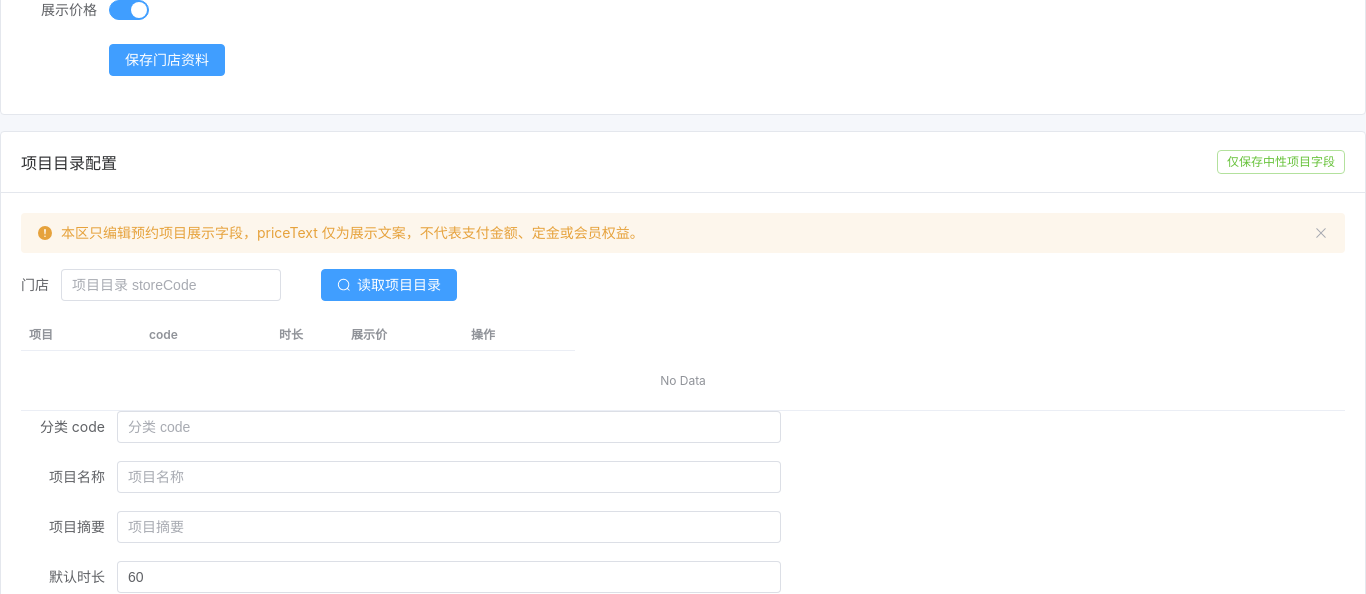
it: StoreAppointmentsPage › saves selected service project draft with request id and store scope
(page scrolled)
Type "store-config-001" into the field with placeholder "项目目录 storeCode". click: point(171, 285)
box: [72,270,270,300]
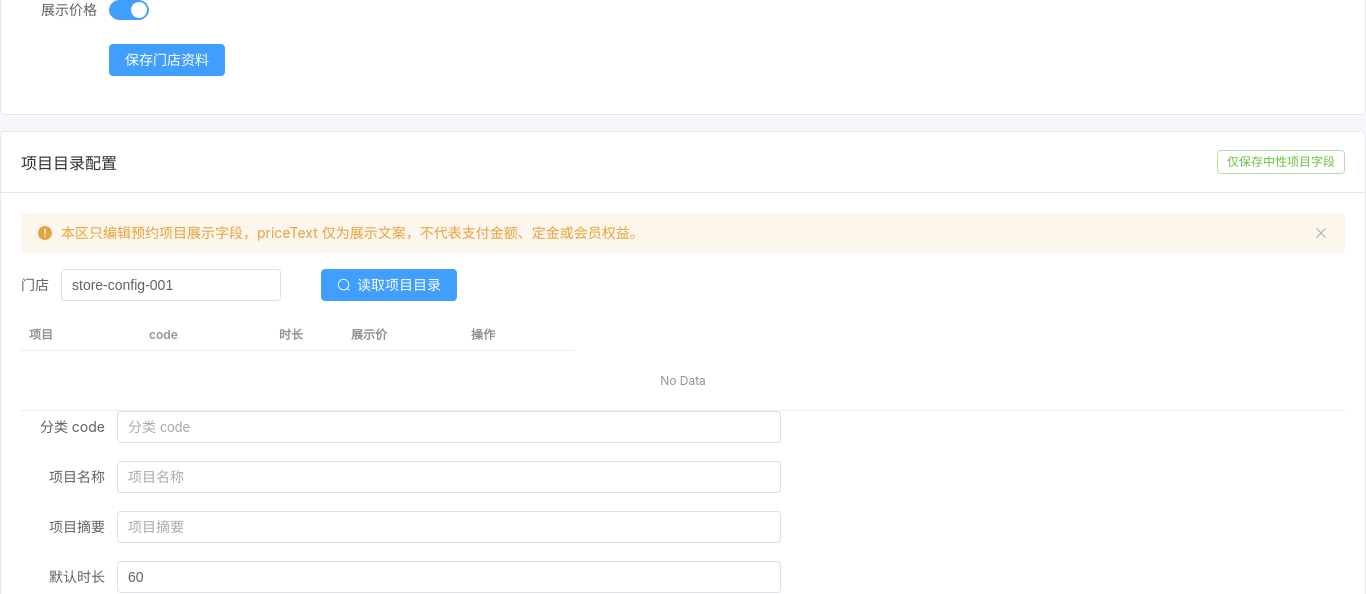
Click the button "读取项目目录". click: point(389, 285)
box: [321,269,457,301]
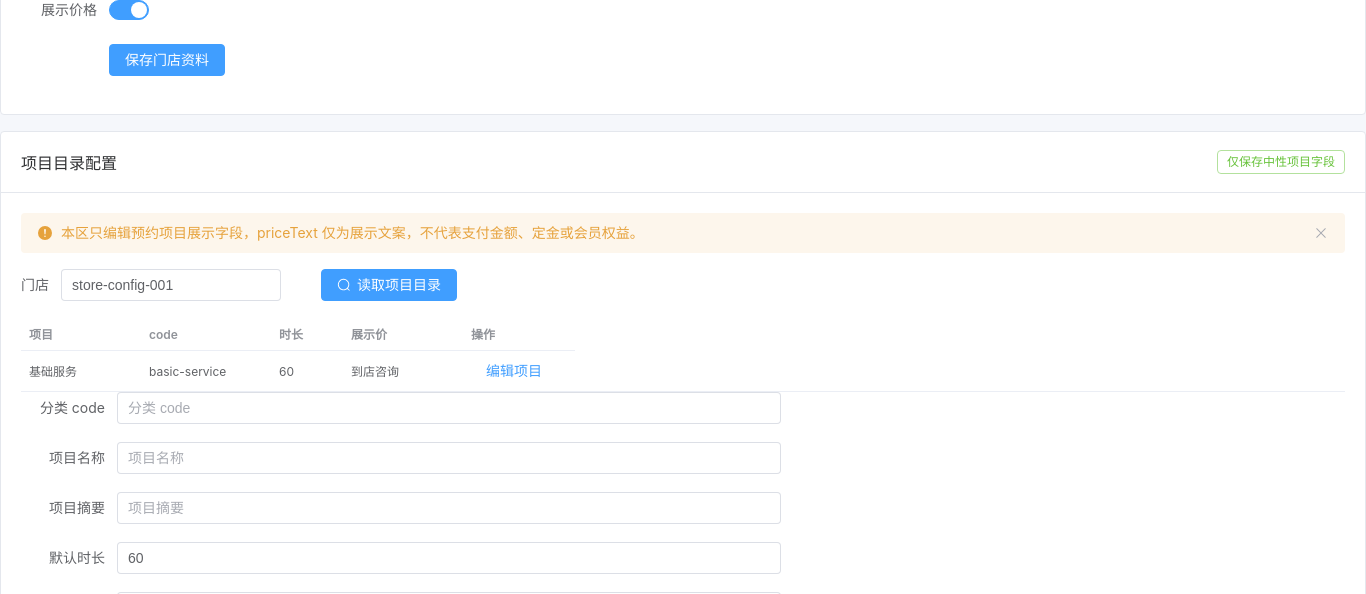
Click the button "编辑项目". click: point(514, 371)
box: [471,355,557,387]
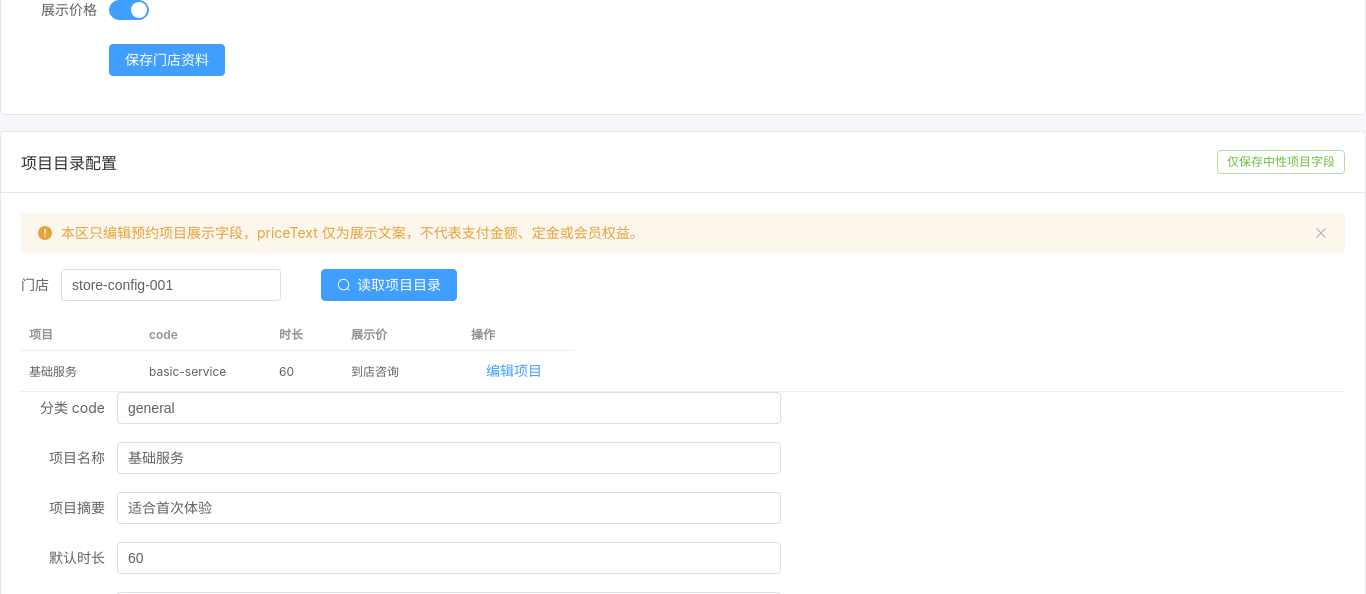
Replace the text in the field with placeholder "项目名称" with "基础护理". click: point(449, 458)
box: [128,443,770,473]
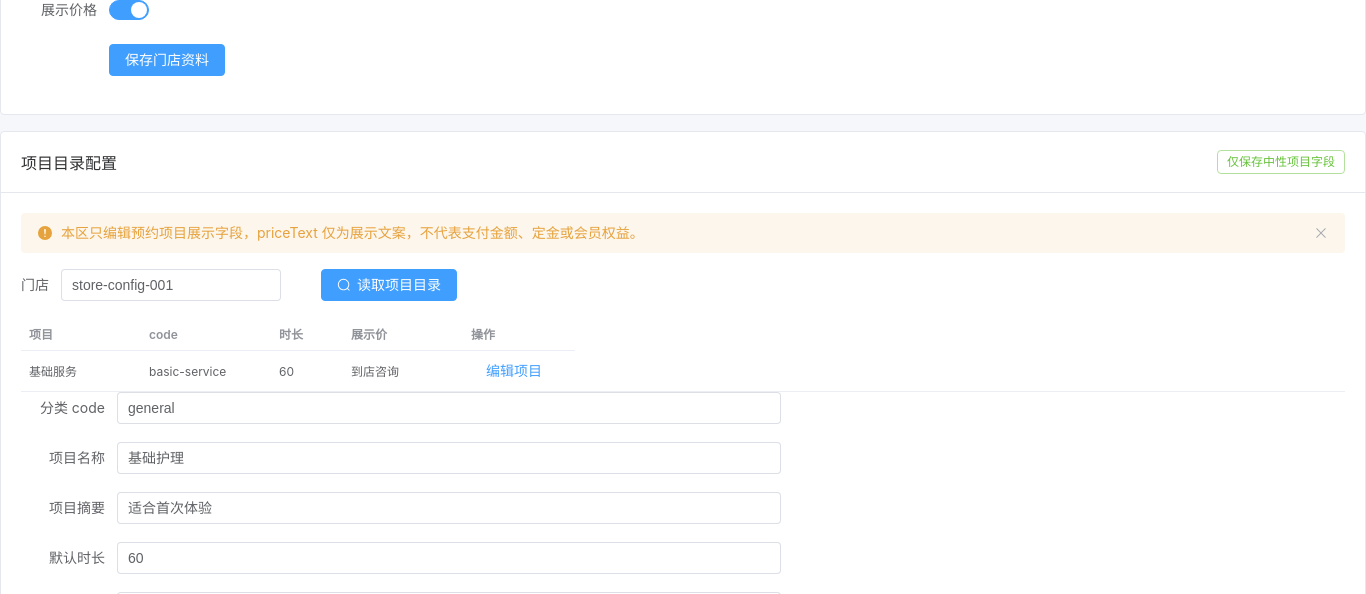
Replace the text in the field with placeholder "默认时长" with "75". click: point(449, 558)
box: [128,543,770,573]
(page scrolled)
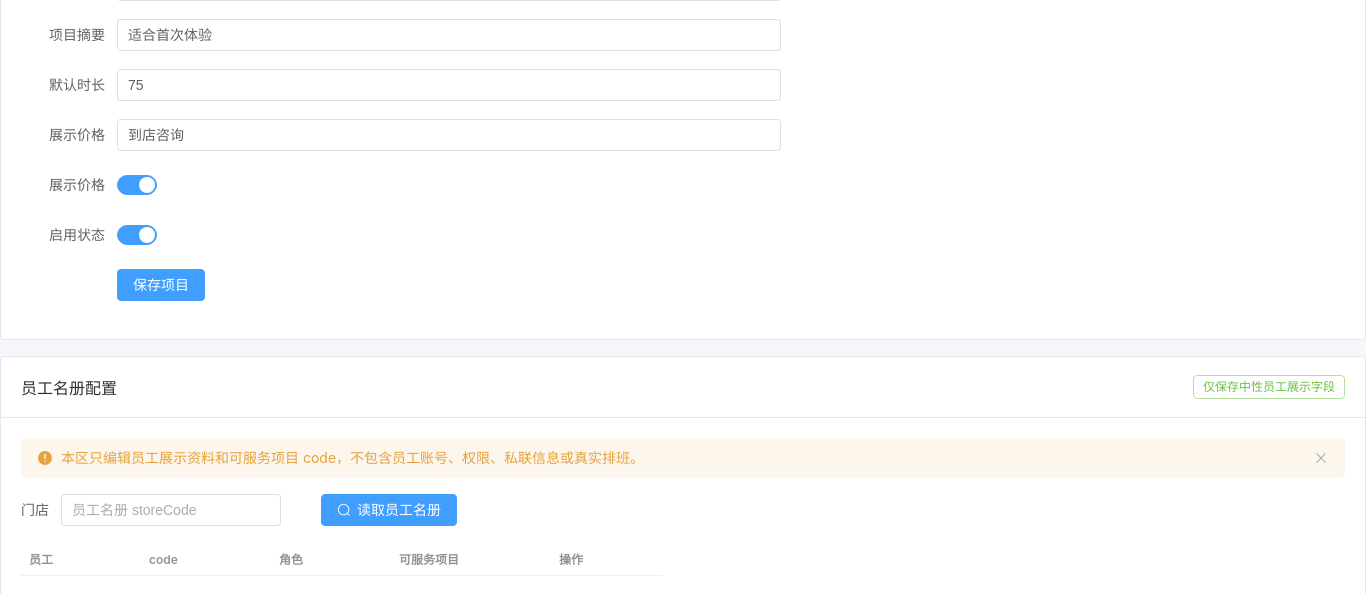
Click the button "保存项目". click: point(161, 285)
box: [117,269,205,301]
(page scrolled)
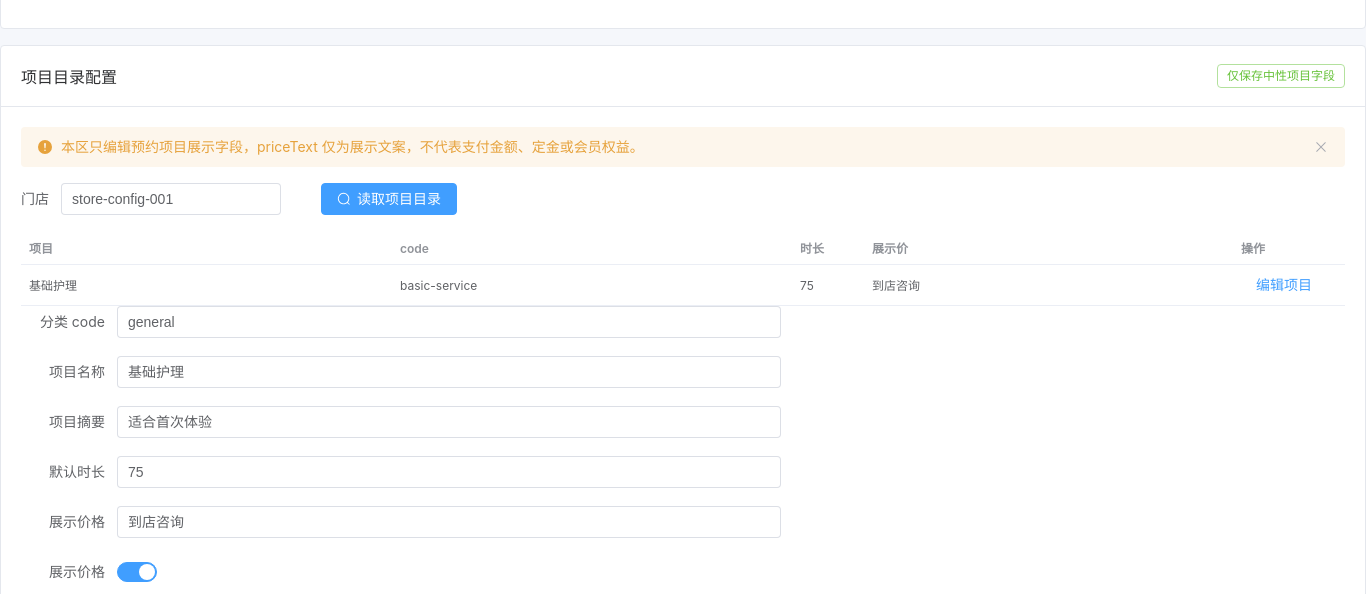
Now the text "基础护理" is shown, box [29,278,77,292]
